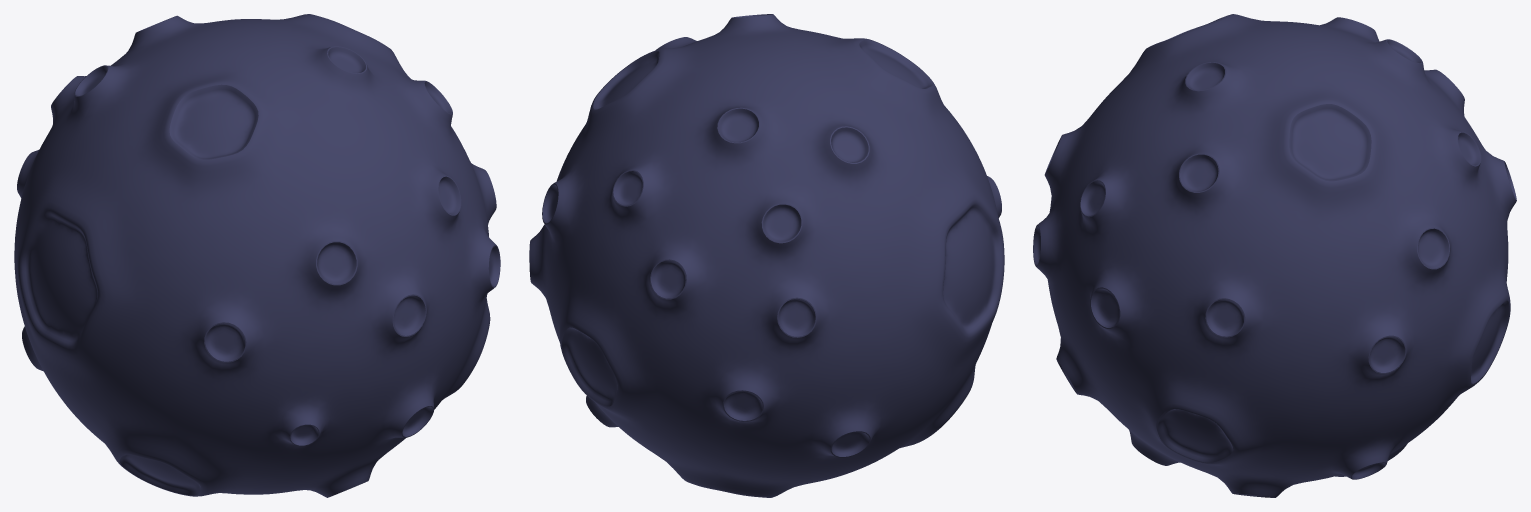
File: moon.glb
3 views of the same model, side by side, from view 1: azimuth 30°, elevation 25°; view 2: azimuth 150°, elevation 25°; view 3: azimuth 270°, elevation 25° (orthographic). The views are drawn at different scales.
Parts seen in each view (by area): view 1: moon; view 2: moon; view 3: moon.
Part boxes in pixels (x1,y1,x2,y2): moon: (14, 14, 500, 497); moon: (529, 14, 1004, 497); moon: (1033, 14, 1516, 497).
Size of the model in its own units: 617 by 609 by 625.
